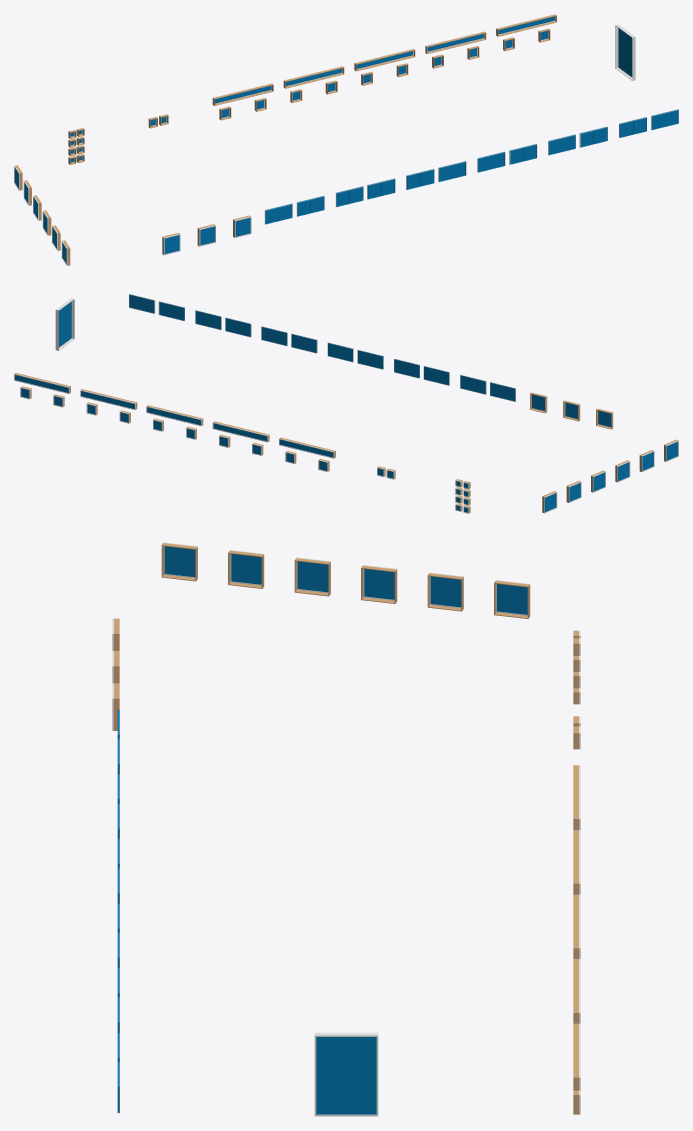
The model's file is Building Model - Excavation and Trench - updated_1kn71nZ$z5OvtVVlfMoOno-Piso 0_IfcWindow.dae.
3 views of the same model, one above another, from view 1: azimuth 30°, elevation 25°; view 2: azimuth 150°, elevation 25°; view 3: azimuth 270°, elevation 25° (orthographic). The views are drawn at different scales.
Visible parts, largest first — view 1: 2s0Jv35vTCcvU8lH771ZsG, 0jFAAIDIf1MvwbwQYdFyLt, 0jFAAIDIf1MvwbwQYdFyL0, 0jFAAIDIf1MvwbwQYdFyL3, 0jFAAIDIf1MvwbwQYdFyL2, 0jFAAIDIf1MvwbwQYdFyL1, 2cjzjgILvB$8MibBurTGsk, 2cjzjgILvB$8MibBurTGt6, 2cjzjgILvB$8MibBurTGsc, 2cjzjgILvB$8MibBurTGnx, 2cjzjgILvB$8MibBurTGtU, 2cjzjgILvB$8MibBurTGnZ (+6 smaller); view 2: 2s0Jv35vTCcvU8lH771ZsG, 0jFAAIDIf1MvwbwQYdFyL3, 0jFAAIDIf1MvwbwQYdFyL0, 0jFAAIDIf1MvwbwQYdFyL2, 0jFAAIDIf1MvwbwQYdFyLt, 0jFAAIDIf1MvwbwQYdFyL1, 2cjzjgILvB$8MibBurTGtM, 2cjzjgILvB$8MibBurTGm7, 2cjzjgILvB$8MibBurTGnh, 2cjzjgILvB$8MibBurTGt6, 2cjzjgILvB$8MibBurTGoR, 2cjzjgILvB$8MibBurTGtU (+6 smaller); view 3: 2s0Jv35vTCcvU8lH771ZsG, 0hoahEQ8z5IR3AtjGQHgMP, 0hoahEQ8z5IR3AtjGQHgMO, 0hoahEQ8z5IR3AtjGQHgMT, 0hoahEQ8z5IR3AtjGQHgMQ, 0hoahEQ8z5IR3AtjGQHgMR, 0hoahEQ8z5IR3AtjGQHgMS.
Boxes of the visible parts, left/top/right/bottom form: 2s0Jv35vTCcvU8lH771ZsG: left=615, top=24, right=635, bottom=80; 0jFAAIDIf1MvwbwQYdFyLt: left=212, top=83, right=273, bottom=105; 0jFAAIDIf1MvwbwQYdFyL0: left=425, top=31, right=486, bottom=53; 0jFAAIDIf1MvwbwQYdFyL3: left=354, top=48, right=415, bottom=71; 0jFAAIDIf1MvwbwQYdFyL2: left=283, top=66, right=344, bottom=88; 0jFAAIDIf1MvwbwQYdFyL1: left=496, top=14, right=556, bottom=36; 2cjzjgILvB$8MibBurTGsk: left=367, top=178, right=395, bottom=199; 2cjzjgILvB$8MibBurTGt6: left=579, top=126, right=607, bottom=147; 2cjzjgILvB$8MibBurTGsc: left=296, top=195, right=324, bottom=216; 2cjzjgILvB$8MibBurTGnx: left=264, top=203, right=292, bottom=224; 2cjzjgILvB$8MibBurTGtU: left=509, top=143, right=537, bottom=164; 2cjzjgILvB$8MibBurTGnZ: left=335, top=186, right=363, bottom=207; 2s0Jv35vTCcvU8lH771ZsG: left=55, top=298, right=74, bottom=350; 0jFAAIDIf1MvwbwQYdFyL3: left=146, top=405, right=203, bottom=426; 0jFAAIDIf1MvwbwQYdFyL0: left=80, top=389, right=137, bottom=410; 0jFAAIDIf1MvwbwQYdFyL2: left=212, top=421, right=269, bottom=442; 0jFAAIDIf1MvwbwQYdFyLt: left=279, top=437, right=335, bottom=458; 0jFAAIDIf1MvwbwQYdFyL1: left=14, top=373, right=70, bottom=393; 2cjzjgILvB$8MibBurTGtM: left=327, top=342, right=353, bottom=362; 2cjzjgILvB$8MibBurTGm7: left=158, top=301, right=184, bottom=321; 2cjzjgILvB$8MibBurTGnh: left=357, top=350, right=383, bottom=369; 2cjzjgILvB$8MibBurTGt6: left=195, top=310, right=221, bottom=329; 2cjzjgILvB$8MibBurTGoR: left=225, top=317, right=251, bottom=337; 2cjzjgILvB$8MibBurTGtU: left=261, top=326, right=287, bottom=346; 2s0Jv35vTCcvU8lH771ZsG: left=314, top=1032, right=378, bottom=1116; 0hoahEQ8z5IR3AtjGQHgMP: left=427, top=572, right=463, bottom=611; 0hoahEQ8z5IR3AtjGQHgMO: left=494, top=580, right=530, bottom=618; 0hoahEQ8z5IR3AtjGQHgMT: left=161, top=542, right=197, bottom=581; 0hoahEQ8z5IR3AtjGQHgMQ: left=361, top=565, right=397, bottom=603; 0hoahEQ8z5IR3AtjGQHgMR: left=294, top=557, right=330, bottom=596; 0hoahEQ8z5IR3AtjGQHgMS: left=228, top=550, right=264, bottom=588.
Bounding box in the file's own units: 51.59 × 18.36 × 4.68.
